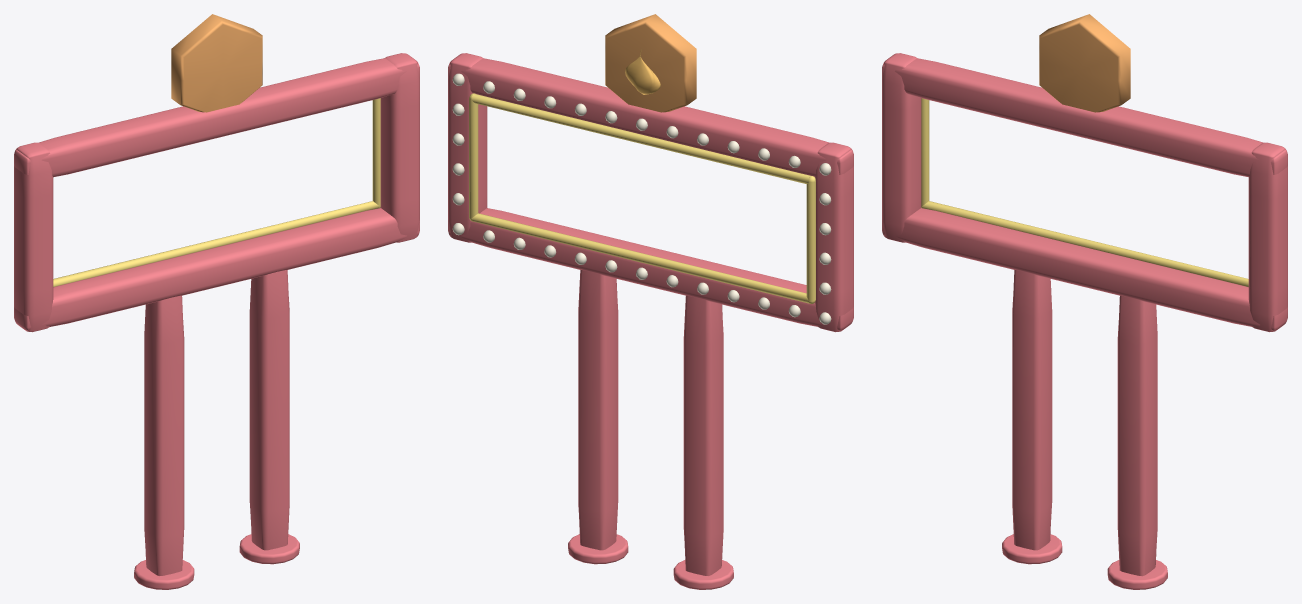
The model's file is CallMarquee.glb.
The picture shows the model from 3 angles, left to right: view 1: azimuth 30°, elevation 25°; view 2: azimuth 150°, elevation 25°; view 3: azimuth 330°, elevation 25°; orthographic projection.
Visible parts, largest first — view 1: Frame, Badge, Trim; view 2: Frame, Trim, Badge, Bulbs, Flame; view 3: Frame, Badge, Trim.
Part boxes in pixels (box(x1,y1,x2,y2)): Frame: box(14, 53, 419, 589); Badge: box(171, 14, 262, 112); Trim: box(53, 98, 380, 286); Frame: box(448, 53, 853, 589); Trim: box(469, 93, 815, 303); Badge: box(605, 14, 696, 112); Bulbs: box(452, 73, 831, 324); Flame: box(625, 49, 660, 94); Frame: box(882, 53, 1287, 589); Badge: box(1039, 14, 1130, 112); Trim: box(921, 98, 1248, 286).
Size of the model in its own units: 30 by 39.7 by 4.
